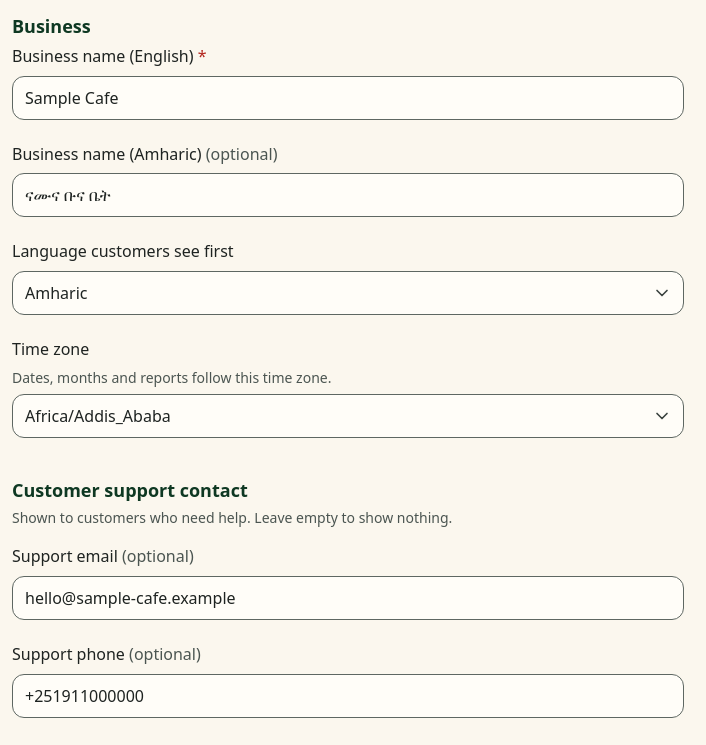
Test: settings screen › warns that a new time zone changes how past days and months are counted
The image size is (706, 745).
Select "Africa/Nairobi" in the dropdown labelled "Time zone" at (348, 416), box [12, 394, 684, 438]
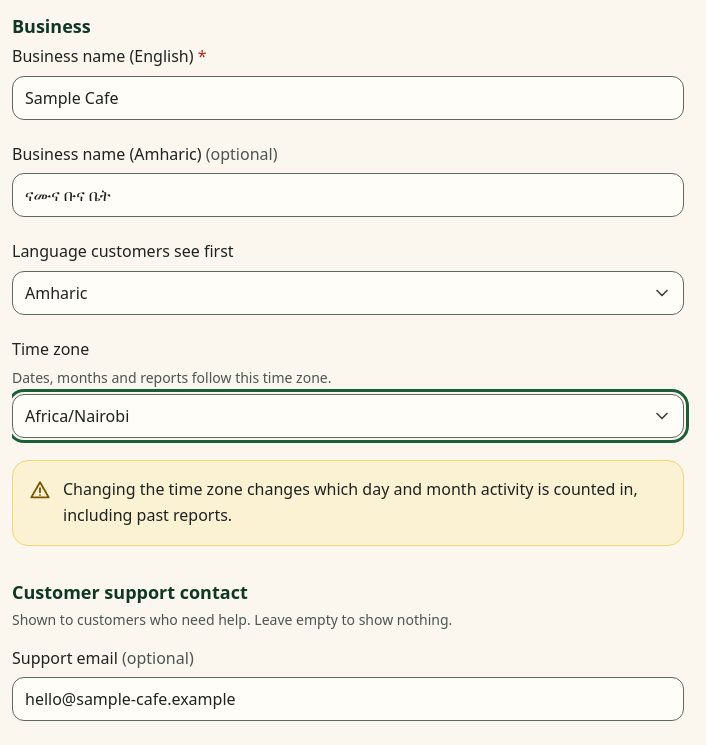
expect the text "including past reports" is shown: met, box [63, 478, 638, 526]
